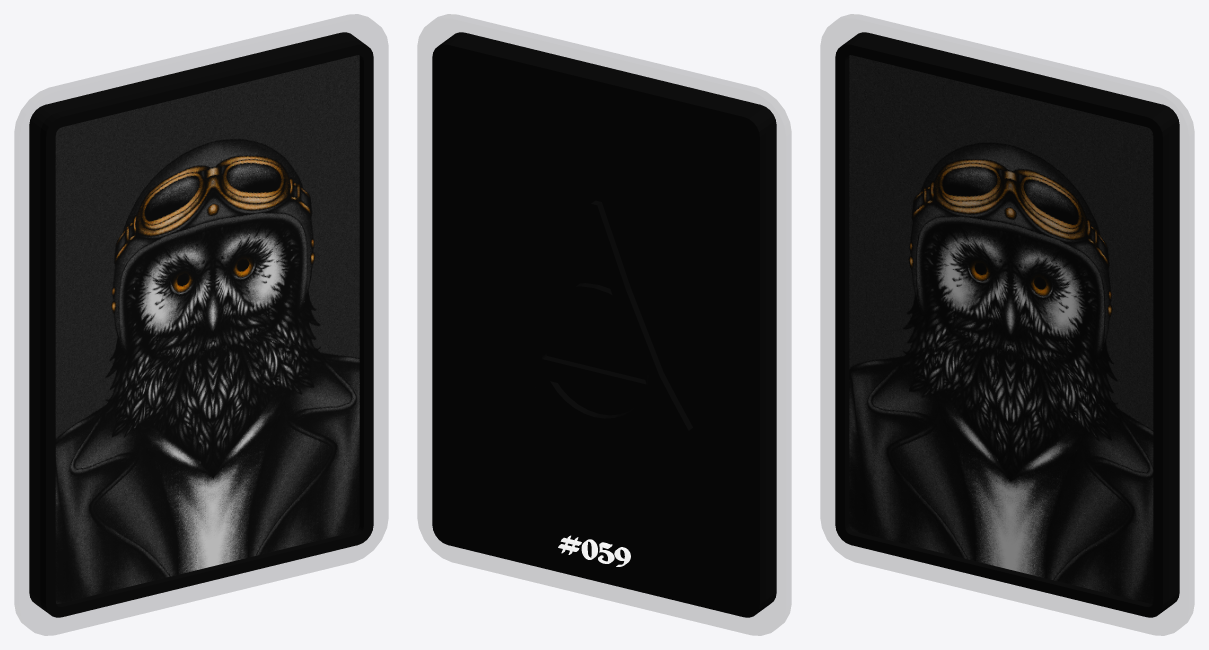
The picture shows the model from 3 angles, left to right: view 1: azimuth 30°, elevation 25°; view 2: azimuth 150°, elevation 25°; view 3: azimuth 330°, elevation 25°; orthographic projection.
Visible parts, largest first — view 1: Card.147, CardBorder.147; view 2: Card.147, CardBorder.147, Площина.040, Текст; view 3: Card.147, CardBorder.147.
Boxes of the visible parts, x1,y1,x2,y2 form: Card.147: [29, 32, 373, 617]; CardBorder.147: [15, 14, 387, 635]; Card.147: [432, 32, 776, 617]; CardBorder.147: [418, 14, 790, 635]; Площина.040: [500, 200, 692, 436]; Текст: [558, 535, 630, 566]; Card.147: [835, 32, 1179, 617]; CardBorder.147: [821, 14, 1193, 635].
Bounding box in the file's own units: 1.1 × 1.55 × 0.1091.
Materials: 5 (1 with a texture image).
